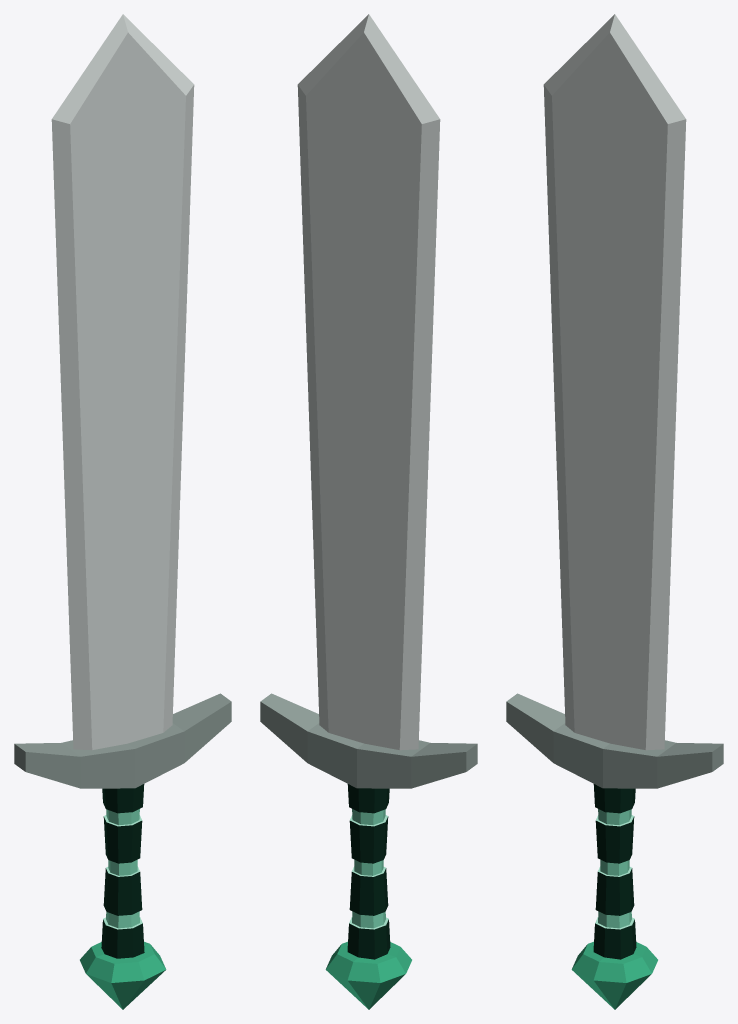
3 views of the same model, side by side, from view 1: azimuth 30°, elevation 25°; view 2: azimuth 150°, elevation 25°; view 3: azimuth 330°, elevation 25° (orthographic).
Parts seen in each view (by area): view 1: Cube; view 2: Cube; view 3: Cube.
Boxes of the visible parts, x1,y1,x2,y2 form: Cube: (14,14,231,1009); Cube: (260,14,477,1009); Cube: (506,14,723,1009).
Size of the model in its own units: 5.34 by 24.68 by 1.93.
1 material, 1 textured.
